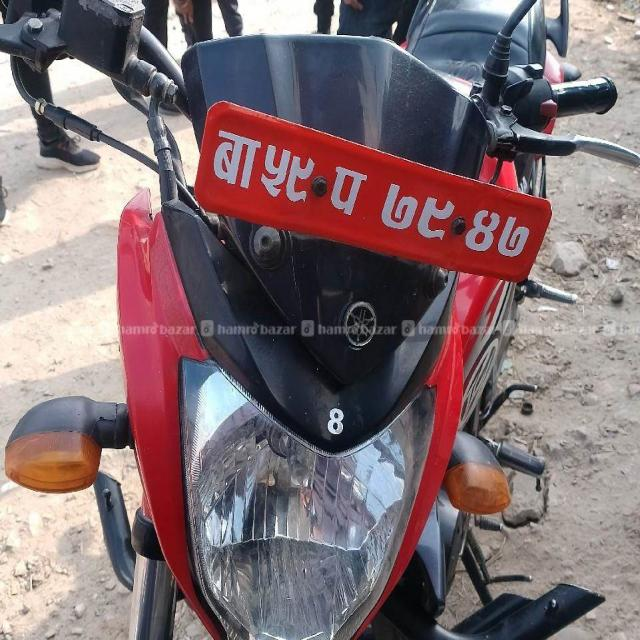License-plate: (196, 99, 554, 278)
